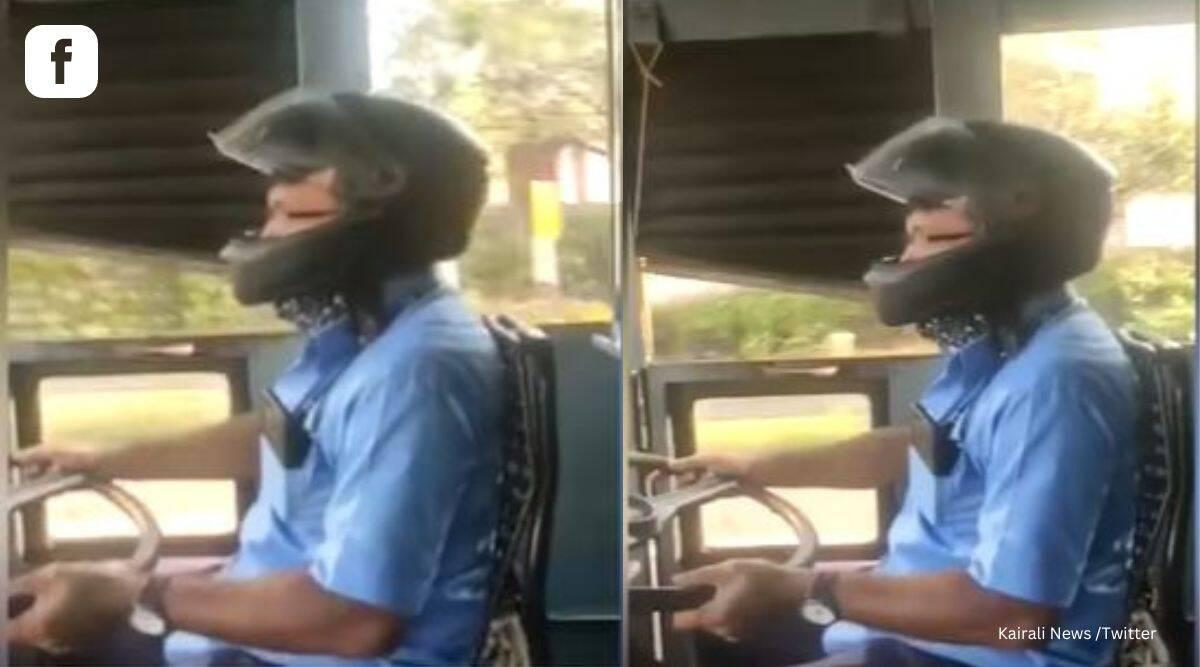Helmet: (209, 88, 490, 343)
